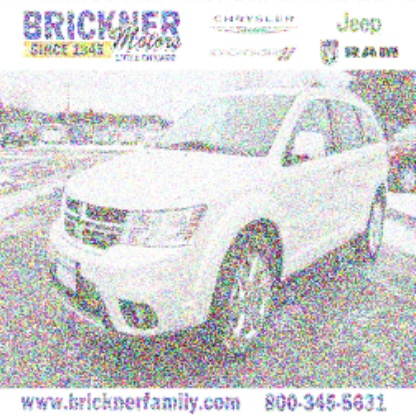Vehicle: (49, 89, 391, 355)
